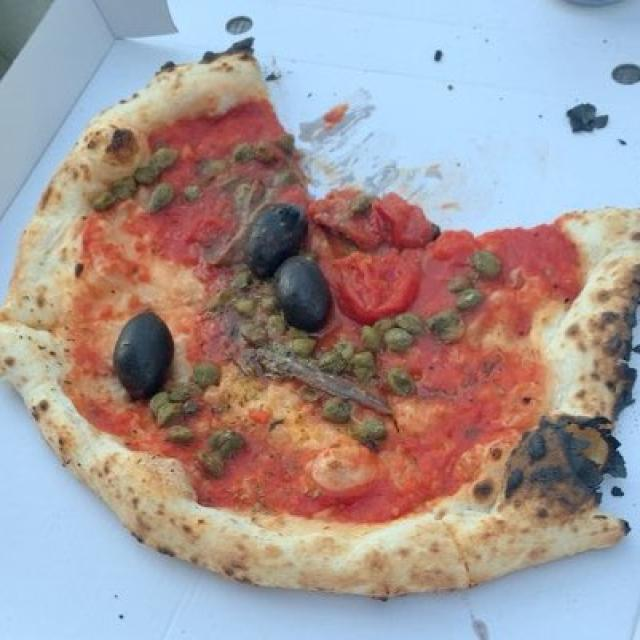Pizza: (3, 23, 640, 611)
